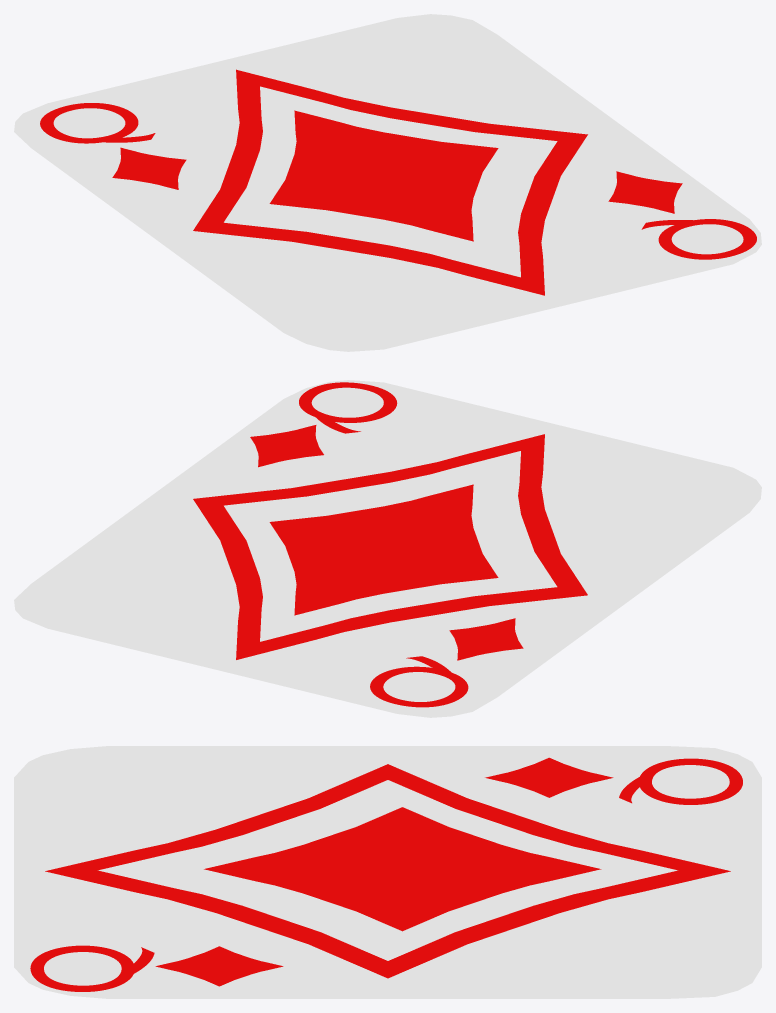
3 views of the same model, one above another, from view 1: azimuth 30°, elevation 25°; view 2: azimuth 150°, elevation 25°; view 3: azimuth 270°, elevation 25° (orthographic). The views are drawn at different scales.
Visible parts, largest first — view 1: QueenofDiamonds, Plane.084_White, Plane.083_Materia, Plane.082_Materia, Plane.086_Materia, Plane.085_Materia, Font.027_Bla_Blac.001, Font.028_Bla_Blac.001; view 2: QueenofDiamonds, Plane.084_White, Plane.083_Materia, Plane.082_Materia, Plane.086_Materia, Plane.085_Materia, Font.028_Bla_Blac.001, Font.027_Bla_Blac.001; view 3: QueenofDiamonds, Plane.084_White, Plane.083_Materia, Plane.082_Materia, Plane.086_Materia, Plane.085_Materia, Font.028_Bla_Blac.001, Font.027_Bla_Blac.001.
Part boxes in pixels (left/top/right/bottom): QueenofDiamonds: left=14, top=14, right=761, bottom=351; Plane.084_White: left=224, top=86, right=557, bottom=277; Plane.083_Materia: left=269, top=110, right=498, bottom=241; Plane.082_Materia: left=193, top=69, right=587, bottom=295; Plane.086_Materia: left=112, top=147, right=186, bottom=189; Plane.085_Materia: left=608, top=171, right=682, bottom=213; Font.027_Bla_Blac.001: left=40, top=103, right=155, bottom=143; Font.028_Bla_Blac.001: left=641, top=219, right=756, bottom=259; QueenofDiamonds: left=14, top=380, right=761, bottom=717; Plane.084_White: left=224, top=451, right=557, bottom=641; Plane.083_Materia: left=269, top=484, right=498, bottom=615; Plane.082_Materia: left=193, top=434, right=587, bottom=659; Plane.086_Materia: left=449, top=618, right=523, bottom=660; Plane.085_Materia: left=250, top=425, right=323, bottom=467; Font.028_Bla_Blac.001: left=299, top=382, right=397, bottom=433; Font.027_Bla_Blac.001: left=370, top=656, right=468, bottom=707; QueenofDiamonds: left=14, top=746, right=761, bottom=998; Plane.084_White: left=98, top=780, right=677, bottom=960; Plane.083_Materia: left=204, top=807, right=601, bottom=931; Plane.082_Materia: left=45, top=764, right=730, bottom=978; Plane.086_Materia: left=485, top=757, right=613, bottom=797; Plane.085_Materia: left=155, top=946, right=283, bottom=986; Font.028_Bla_Blac.001: left=30, top=945, right=154, bottom=991; Font.027_Bla_Blac.001: left=619, top=758, right=742, bottom=804.
Bounding box in the file's own units: 1.6 × 0.00974 × 2.
